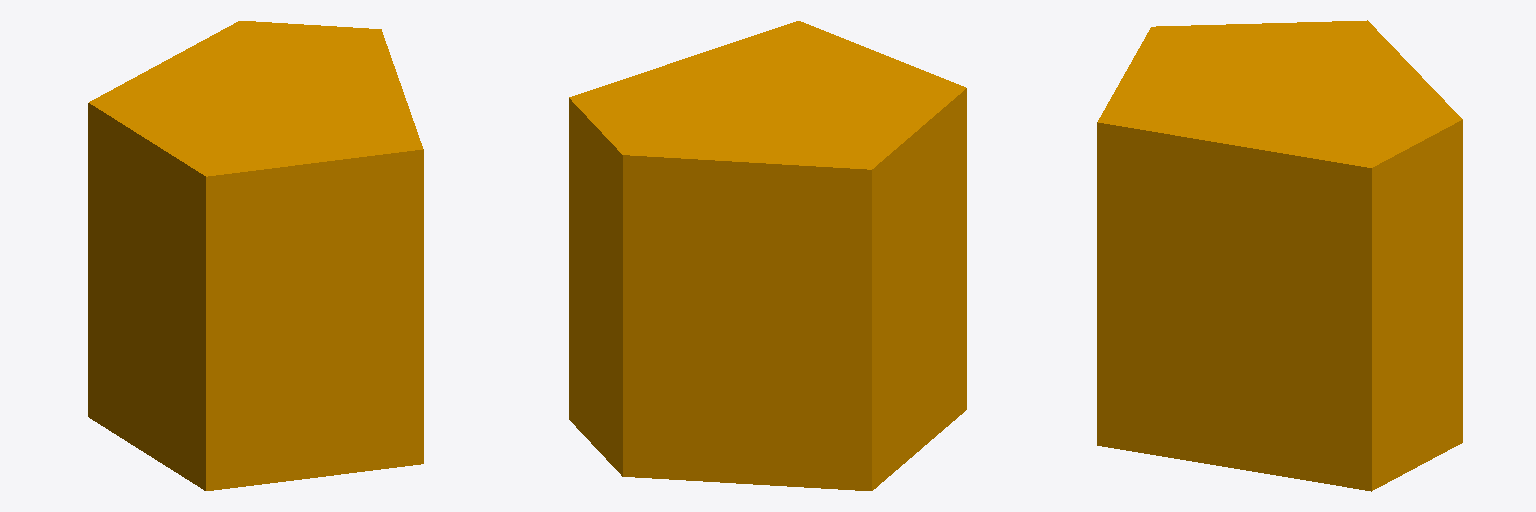
robot.urdf — object:
<?xml version="1.0"?>
<robot name="object">
  <link name="object">
    <visual>
      <origin xyz="0 0 0"/>
      <geometry>
        <mesh filename="meshes/generated/col_075.obj" scale="0.03 0.03 0.03"/>
      </geometry>
    </visual>
    <collision>
      <origin xyz="0 0 0"/>
      <geometry>
        <mesh filename="meshes/generated/col_075.obj" scale="0.03 0.03 0.03"/>
      </geometry>
    </collision>
    <inertial>
      <density value="1000.0"/>
    </inertial>
  </link>
</robot>

--- What the picture shows (computed from the rendered views, not written in the file) ---
Views: 3 orthographic renders of the robot side by side, from view 1: azimuth 30°, elevation 25°; view 2: azimuth 150°, elevation 25°; view 3: azimuth 270°, elevation 25°.
Robot: object — 1 links, 0 joints (none); root link object; default pose: all joints at 0.
Links seen in each view (by area): view 1: object; view 2: object; view 3: object.
Boxes of the visible links, x1,y1,x2,y2 form: object: (88, 21, 423, 490); object: (569, 21, 966, 490); object: (1097, 20, 1462, 491).
Size in the robot's own frame: 0.0588 by 0.0615 by 0.06 metres.
1 mesh visuals loaded from 1 distinct referenced files (1 OBJ).
